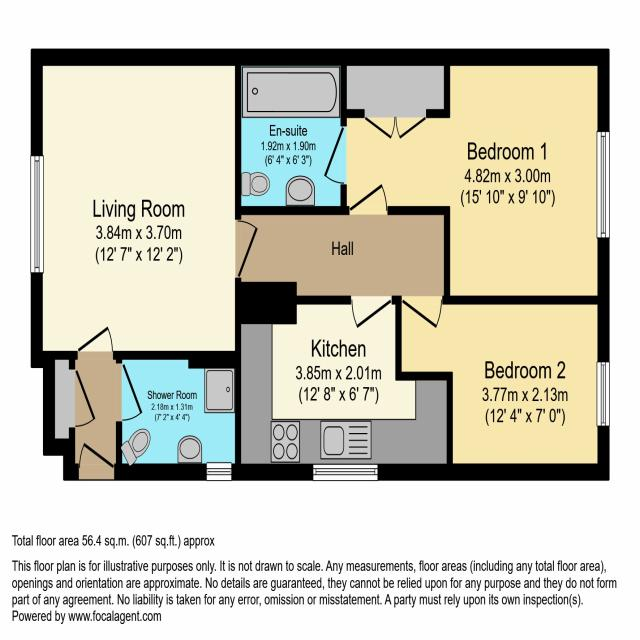DOOR: (68, 367, 97, 429), (115, 361, 144, 422), (350, 294, 394, 331), (400, 294, 444, 330), (78, 440, 116, 481), (348, 181, 390, 216), (323, 124, 347, 185), (76, 324, 115, 361)
ROOM: (321, 47, 611, 305), (30, 48, 260, 369), (234, 281, 453, 481), (395, 295, 610, 481)
WINDOW: (30, 154, 44, 274), (596, 130, 610, 240), (312, 462, 378, 482), (595, 361, 610, 427), (206, 461, 232, 482)
